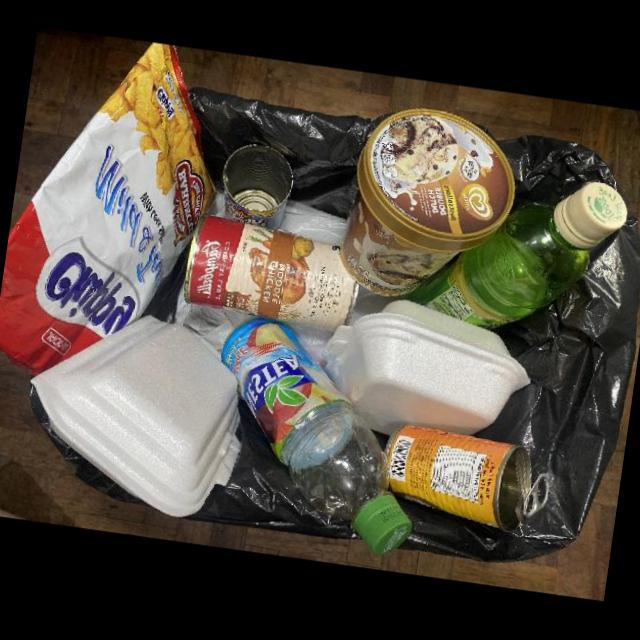bao_bi_thuc_pham: (0, 43, 216, 376)
chai_nhua: (409, 184, 627, 331)
chai_nhua_pet: (223, 320, 414, 559)
hop_nhua: (341, 109, 515, 296)
nhom: (185, 216, 361, 333), (386, 425, 553, 535), (222, 143, 293, 227)
xop: (32, 314, 242, 519), (321, 300, 532, 434)
